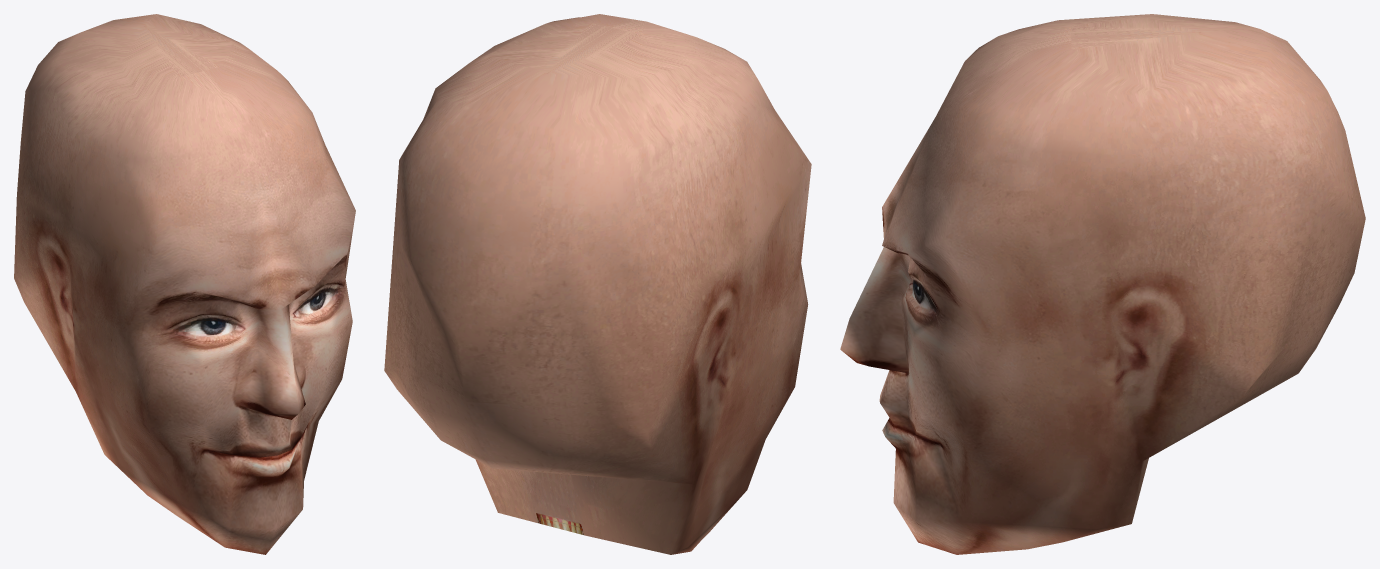
The model's file is b_n_nord_m_head_05.glb.
3 renders of one model, left to right at view 1: azimuth 30°, elevation 25°; view 2: azimuth 150°, elevation 25°; view 3: azimuth 270°, elevation 25°, orthographic. The views are drawn at different scales.
Visible parts, largest first — view 1: Tri B_N_Nord_M_Head_05; view 2: Tri B_N_Nord_M_Head_05; view 3: Tri B_N_Nord_M_Head_05.
Boxes of the visible parts, x1=… form: Tri B_N_Nord_M_Head_05: x1=14, y1=14, x2=355, y2=554; Tri B_N_Nord_M_Head_05: x1=384, y1=14, x2=811, y2=554; Tri B_N_Nord_M_Head_05: x1=840, y1=14, x2=1365, y2=554.
Bounding box in the file's own units: 0.0924 × 0.1646 × 0.1536.
Materials: 1 (1 with a texture image).
